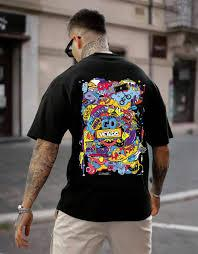tshirt: (27, 49, 175, 224)
